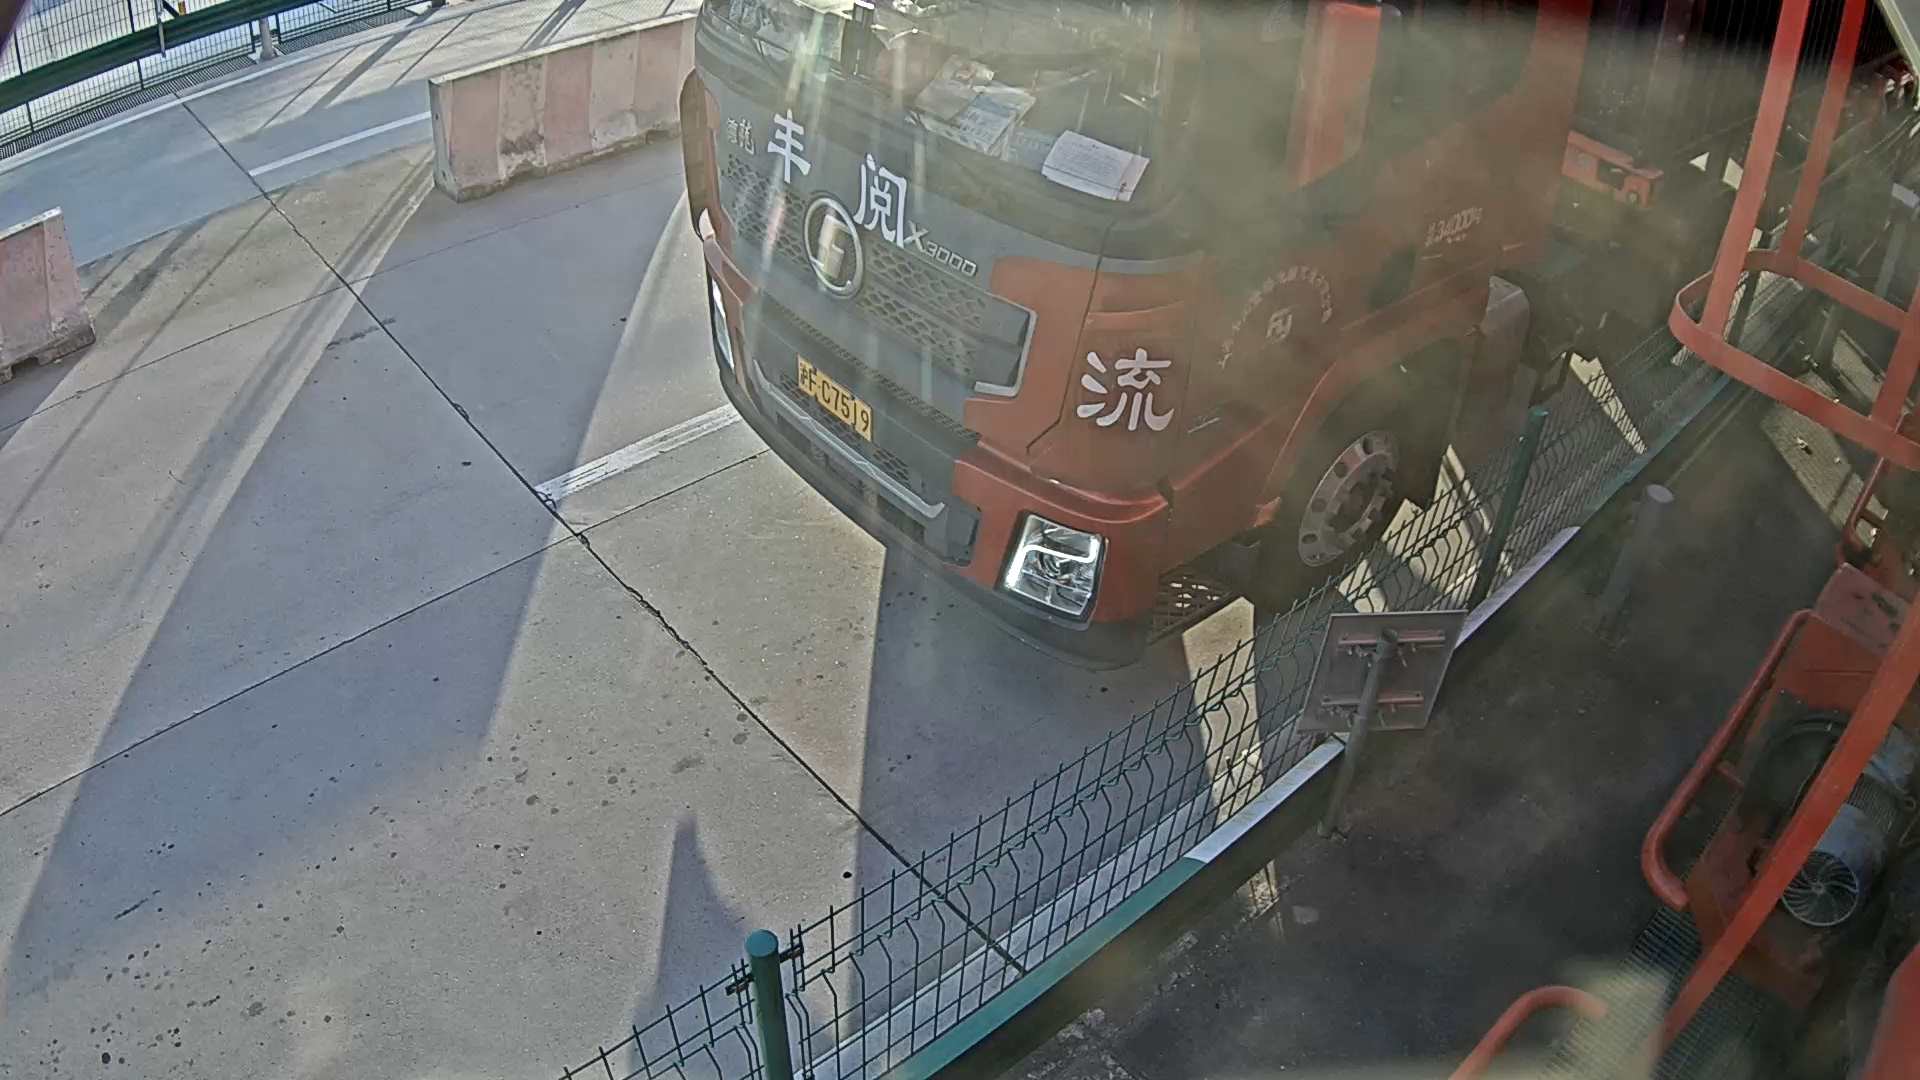head: (685, 13, 1317, 677)
plate: (793, 350, 904, 455)
